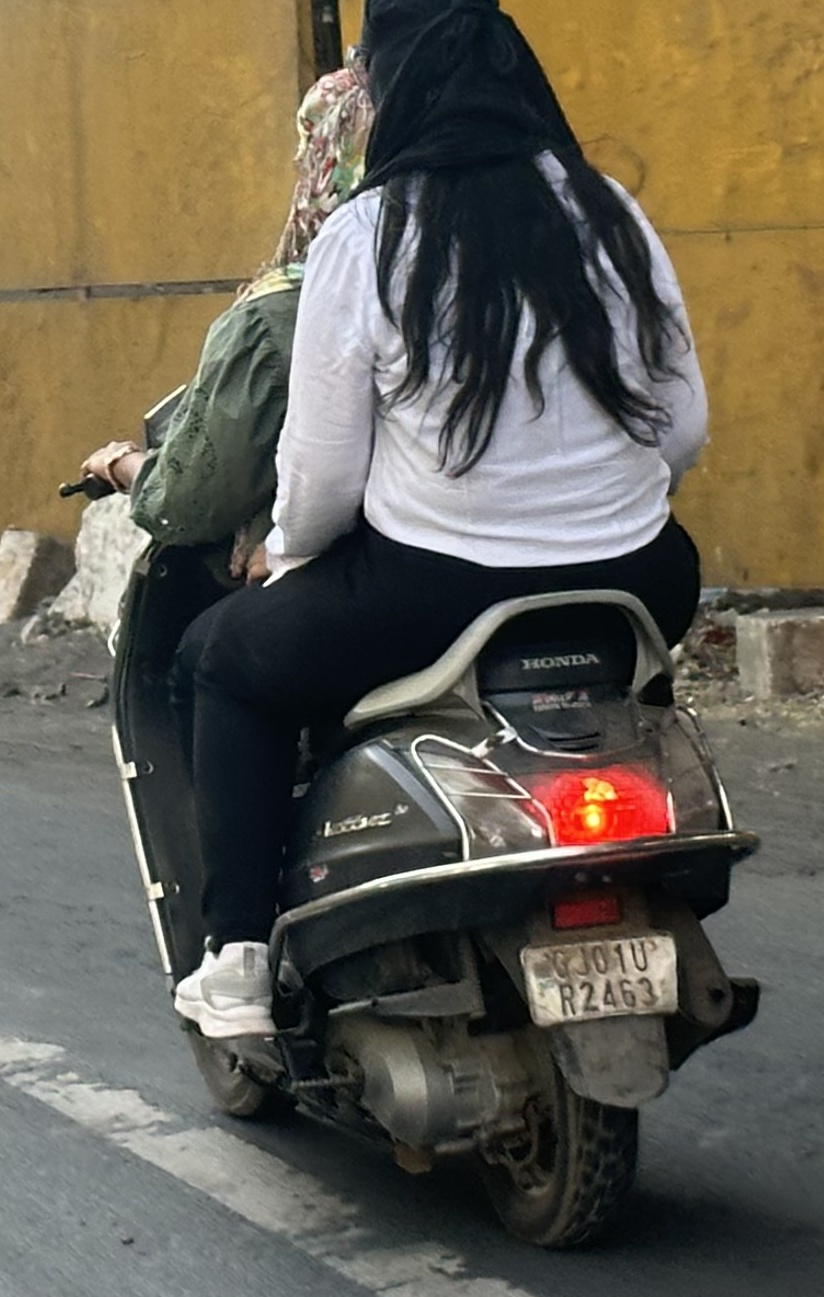BikeWithRider: (51, 0, 779, 1246)
NoHelmet: (264, 37, 430, 253), (371, 0, 568, 174)
